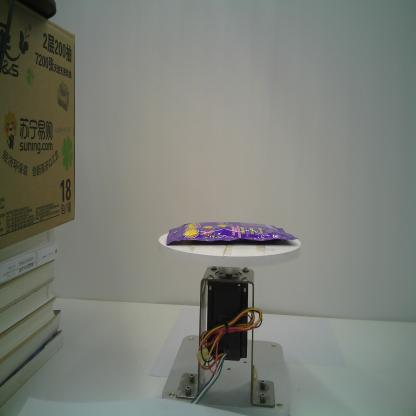Candy: (166, 221, 298, 246)
